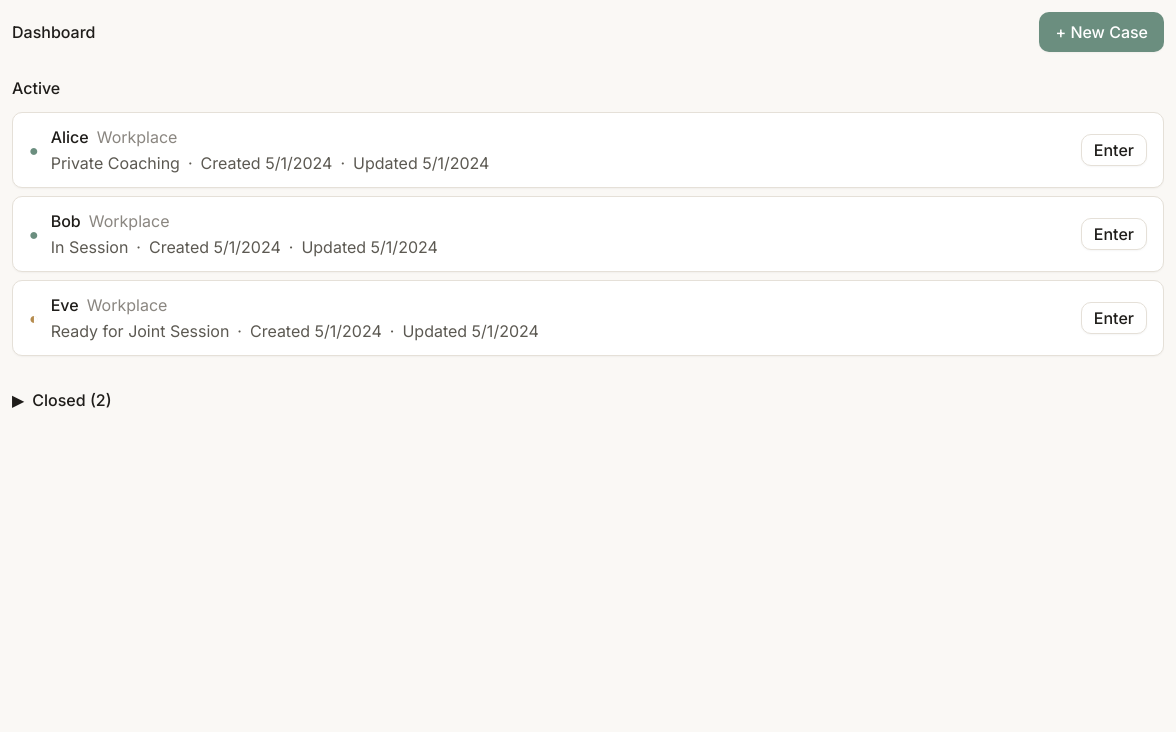
Test: AC: Closed section is collapsed by default › expanding the Closed section reveals closed cases
# Find and click the Closed section header/toggle
Click the button "▶ Closed (2)" at x=62, y=400, box [12,388,112,412]
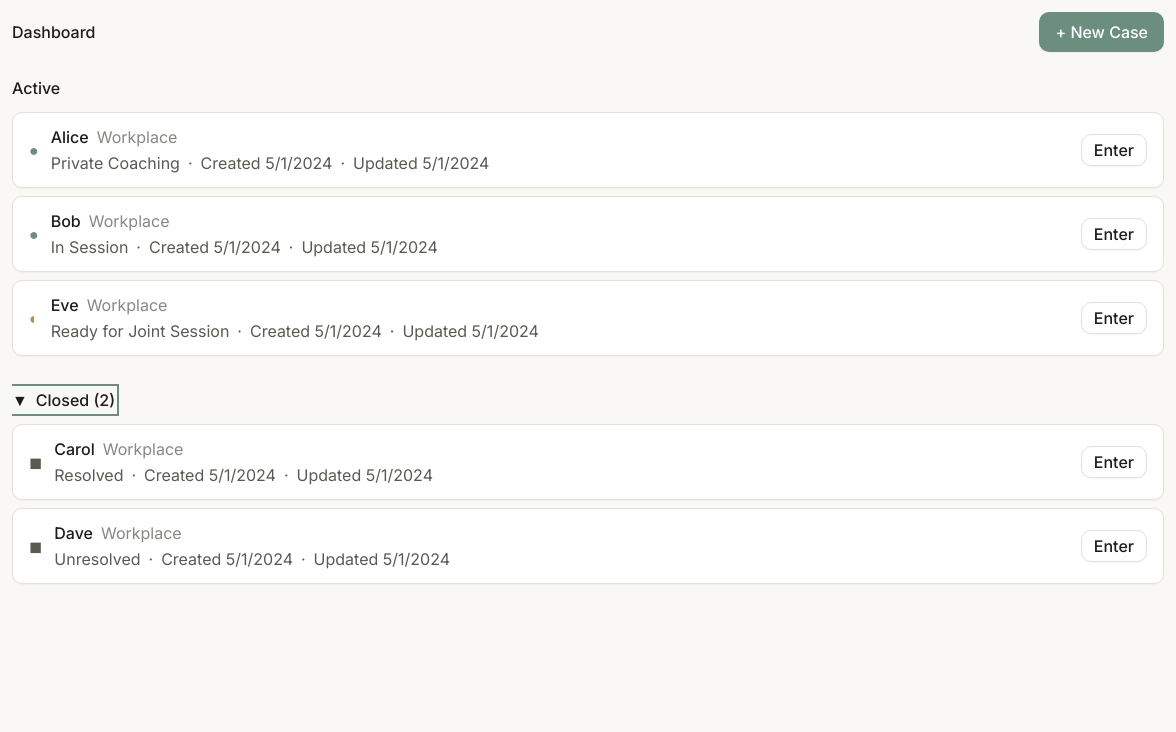
Check: the text "Carol" is shown, box [54,437,95,461]
Check: the text "Dave" is shown, box [54,521,93,545]
